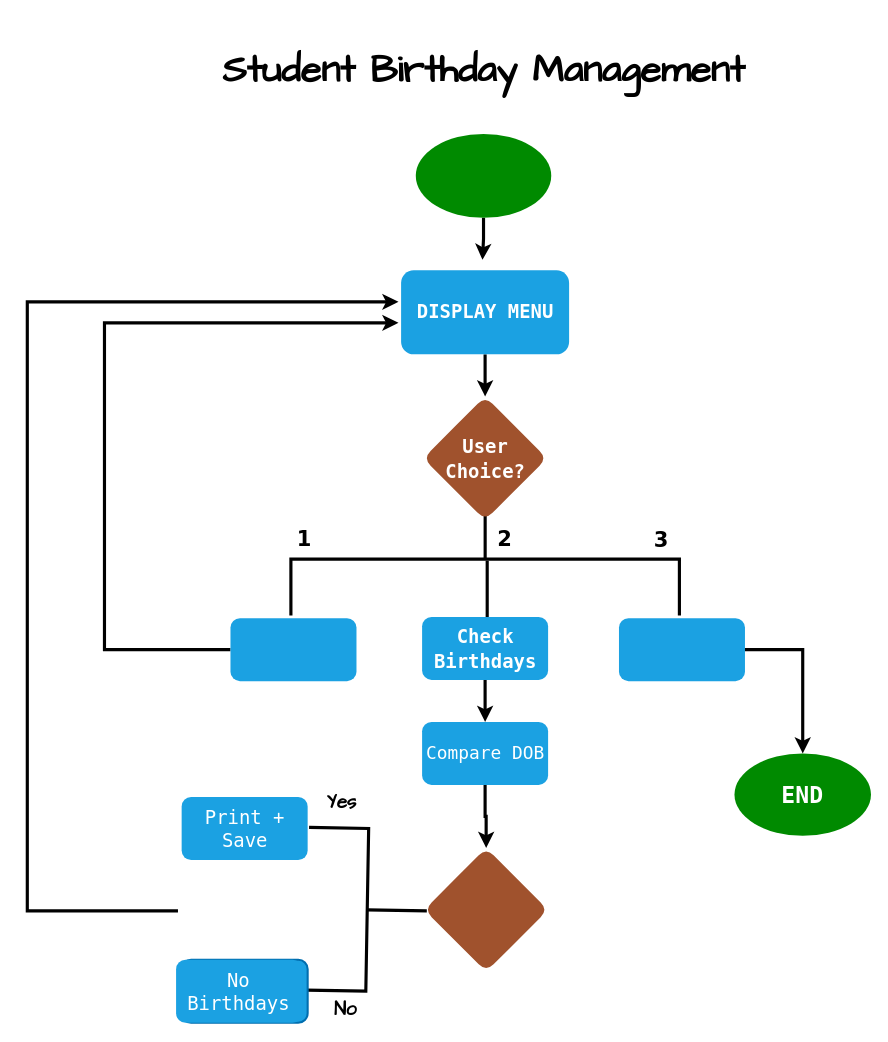
Image size: 888x1042. Some labels were removed from this diagram. Each missing label, with the centre of its shape:
Birthday Found?: pixel 486 909
Exit: pixel 681 649
Register & Save Data: pixel 293 649
START: pixel 483 175
